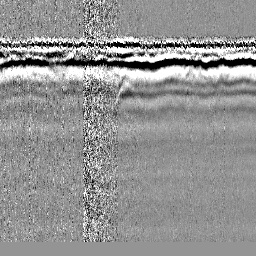cavity: (114, 78, 143, 106)
